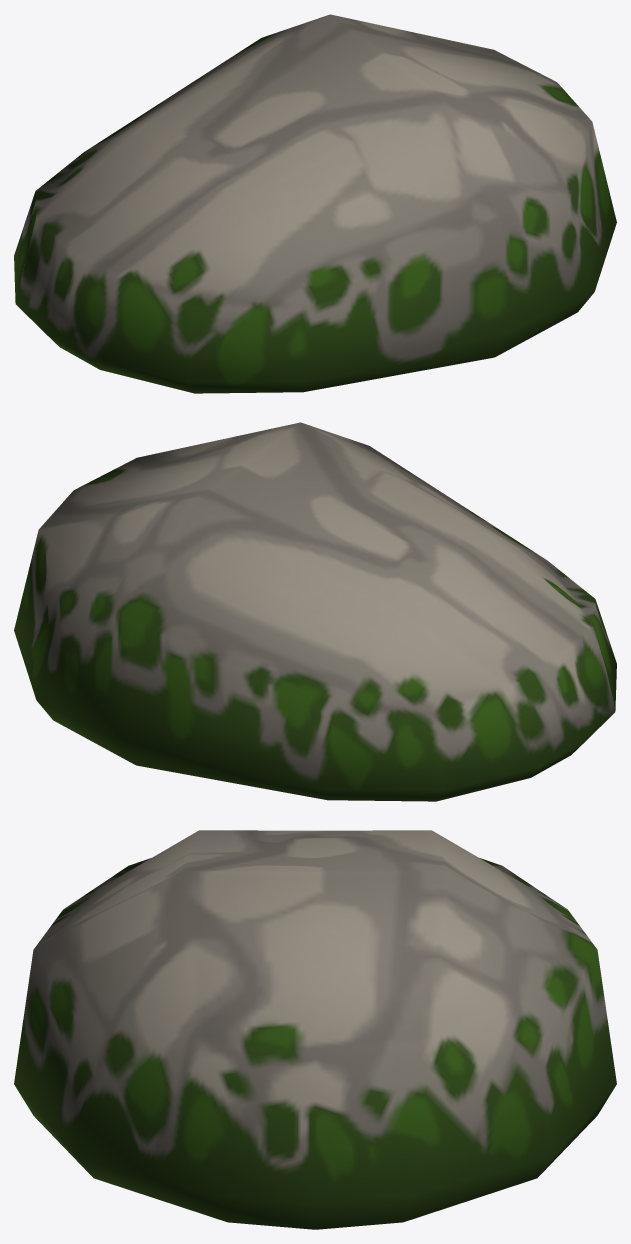
Rendered from rock.gltf.
The picture shows the model from 3 angles, top to bottom: view 1: azimuth 30°, elevation 25°; view 2: azimuth 150°, elevation 25°; view 3: azimuth 270°, elevation 25°; orthographic projection. The views are drawn at different scales.
Visible parts, largest first — view 1: Rock_05; view 2: Rock_05; view 3: Rock_05.
Boxes of the visible parts, box(x1,y1,x2,y2) form: Rock_05: box(14, 14, 616, 393); Rock_05: box(14, 422, 616, 801); Rock_05: box(14, 830, 616, 1229).
Size of the model in its own units: 48.19 by 17.96 by 39.23.
Materials: 1 (1 with a texture image).
